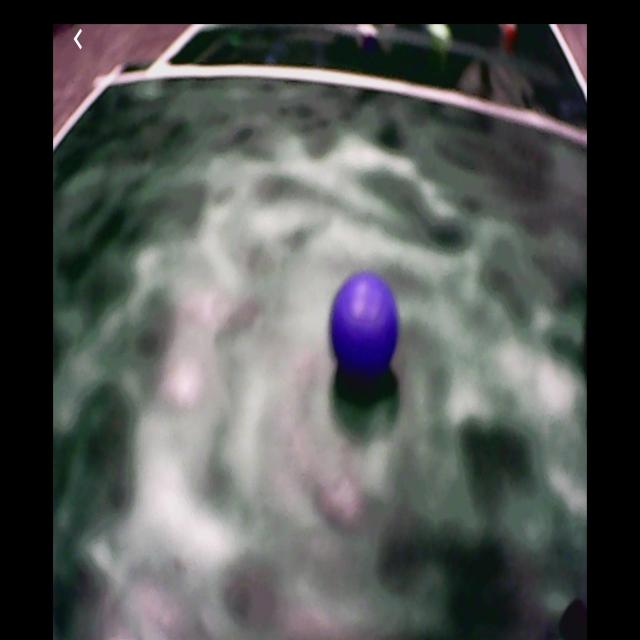ball: (333, 274, 400, 374)
